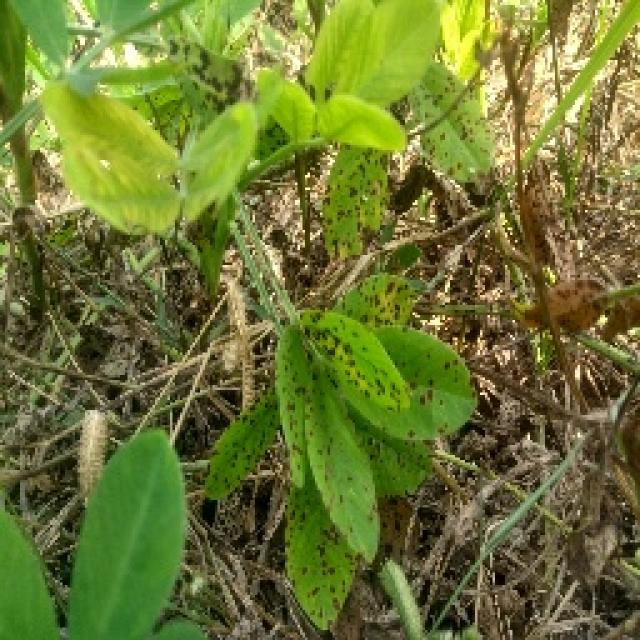Yellowish: (211, 266, 464, 601), (349, 9, 505, 210), (272, 90, 394, 252)
